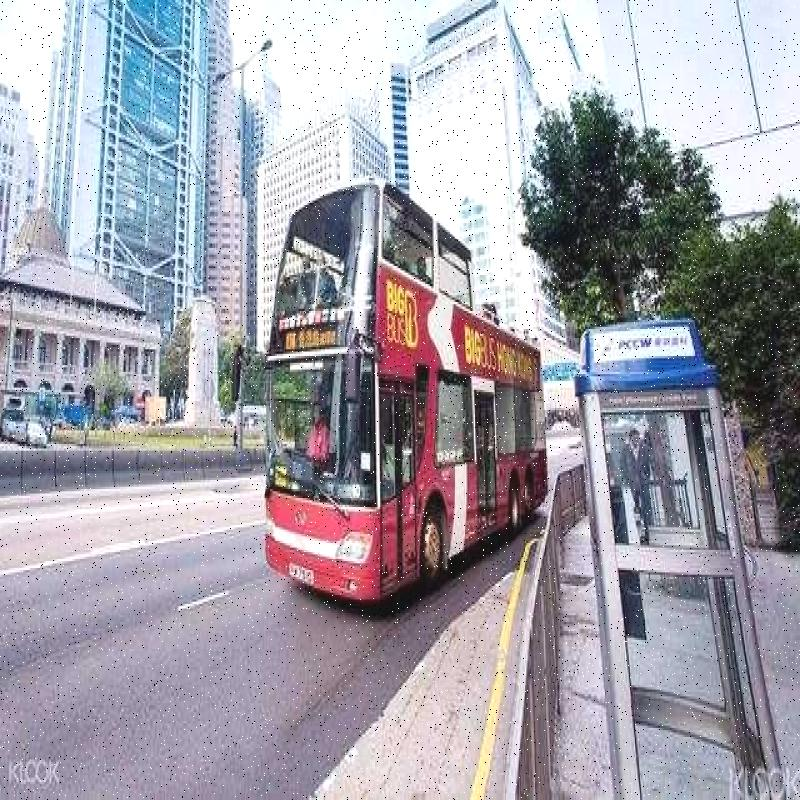bus: (257, 172, 556, 604)
